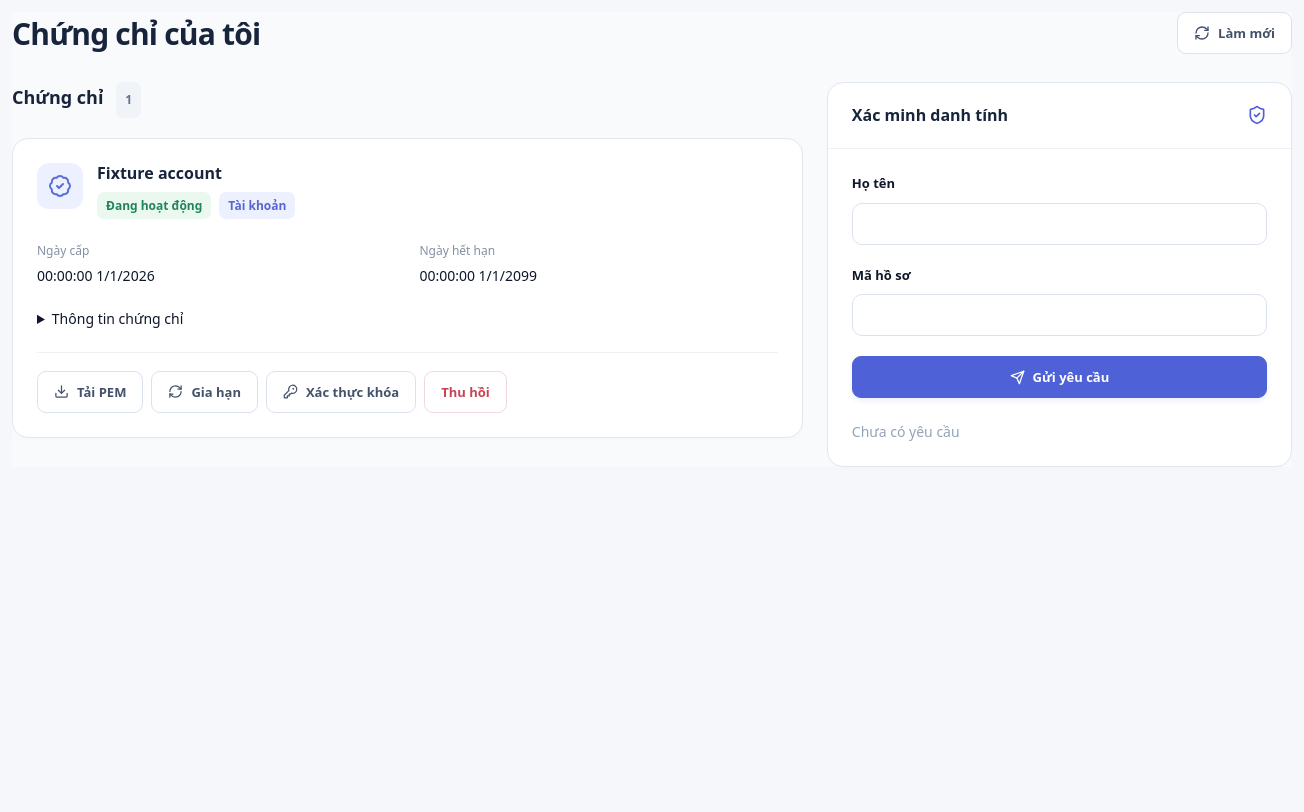
Test: retains the exact signed renewal request after a lost response and remount
Later steps or results of the test are not shown.
Click the button with aria-label "Gia hạn / cập nhật danh tính" at (205, 392), box [151,371,258,413]
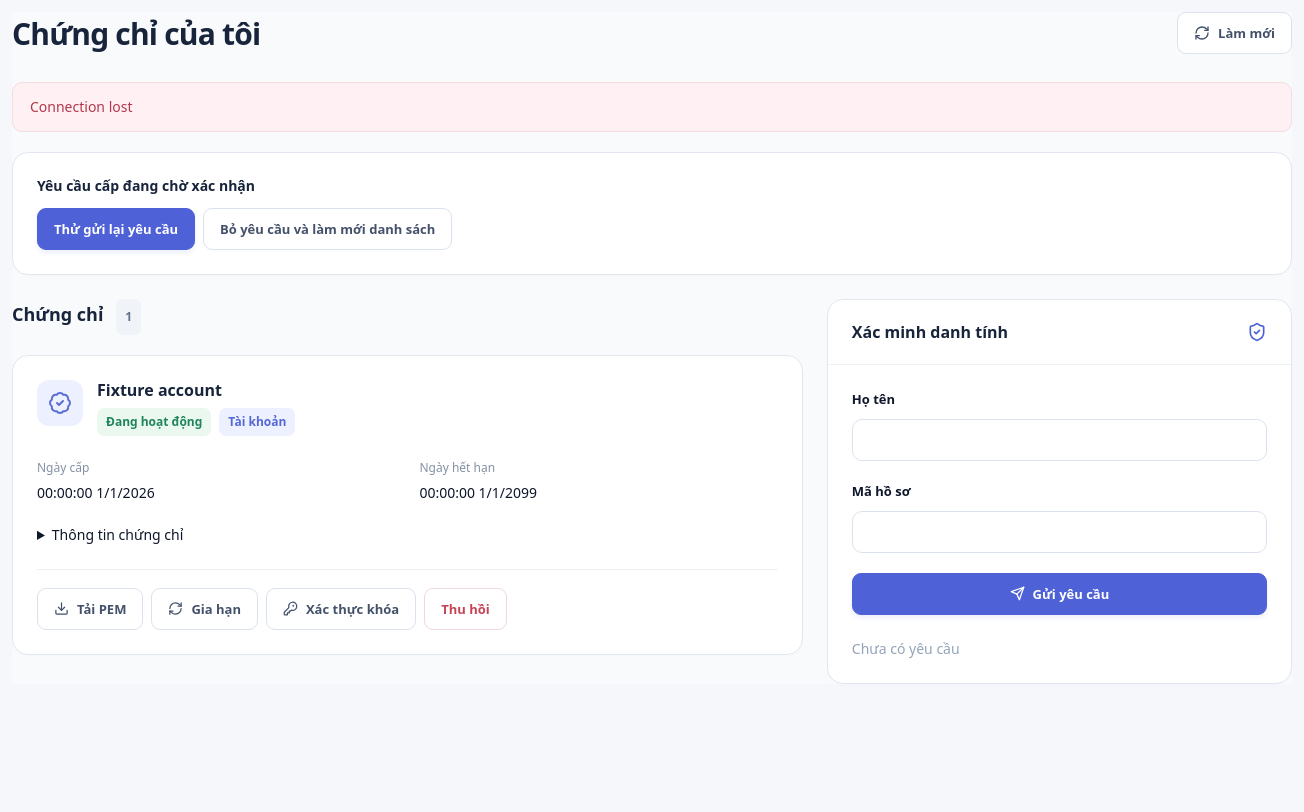
Expected: the message "Connection lost" is shown, [12,82,1292,132]
